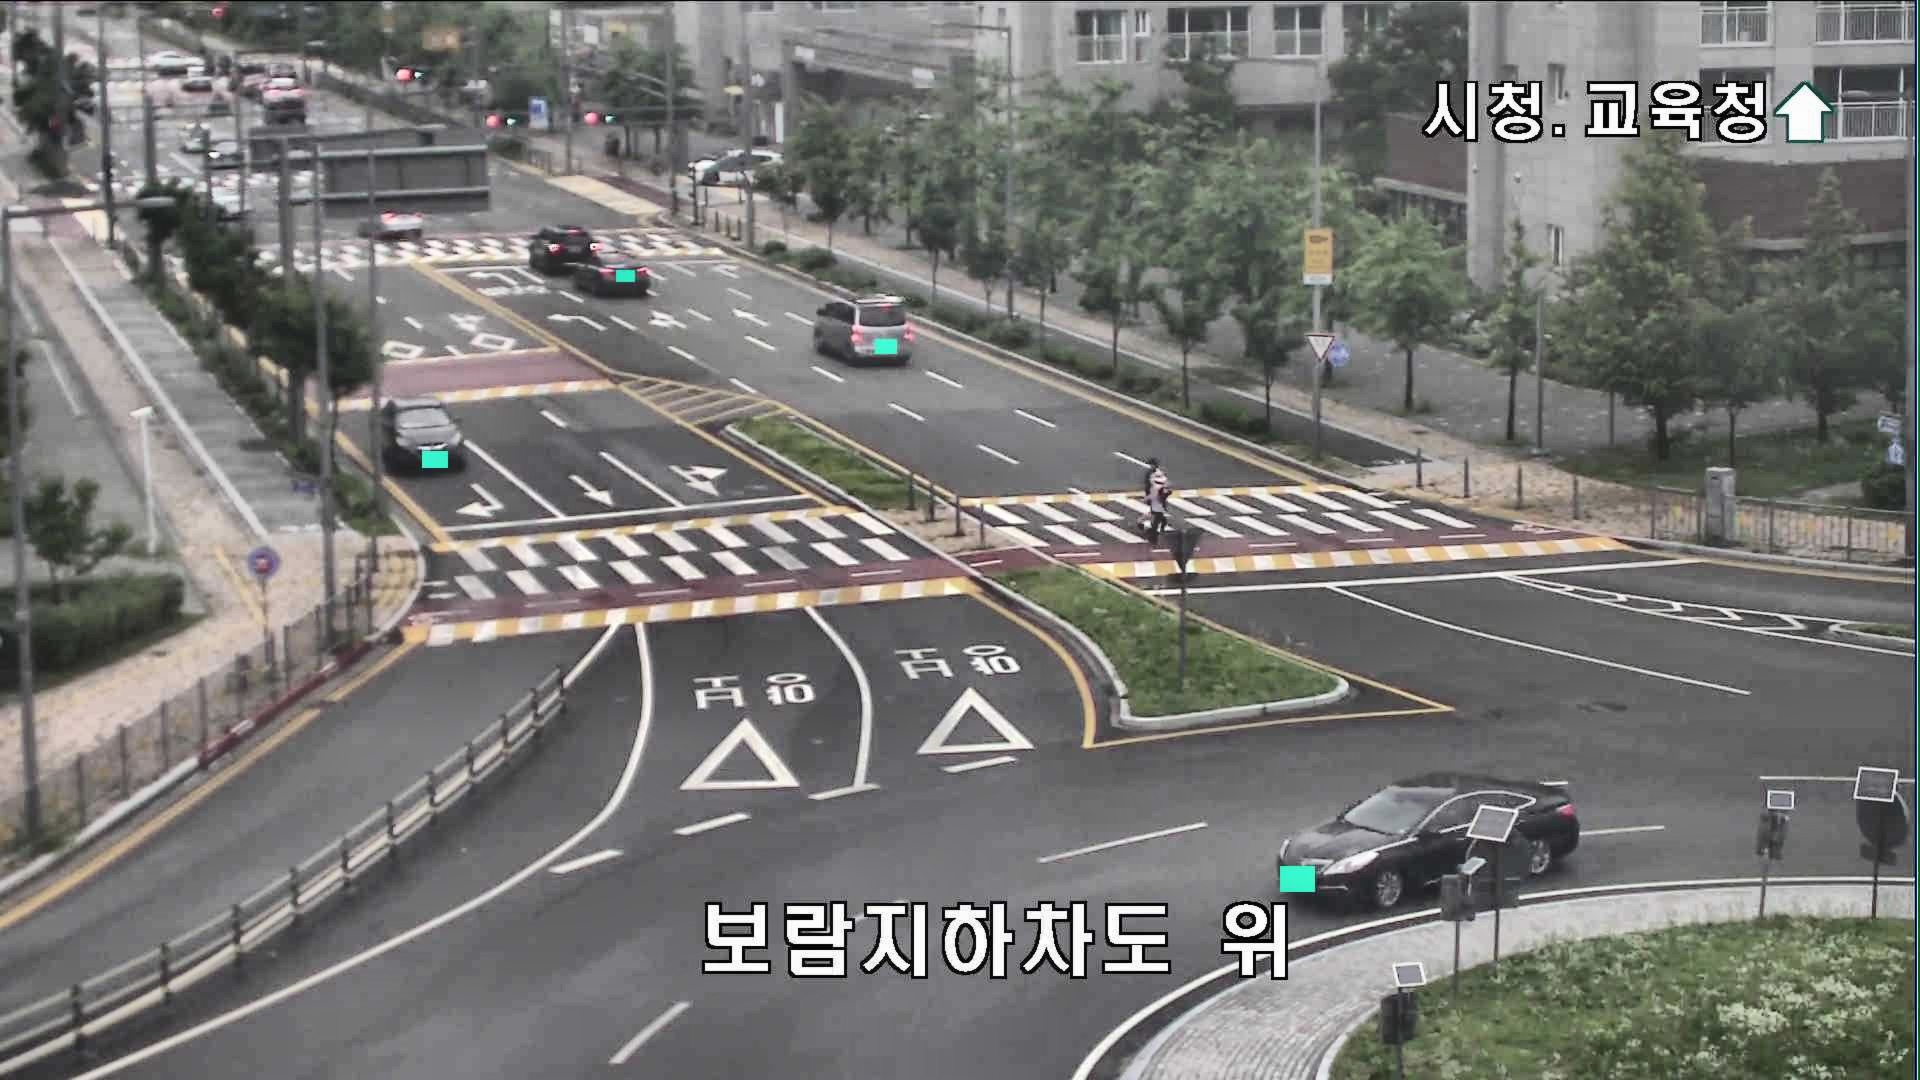crosswalk: (1143, 473, 1168, 538)
